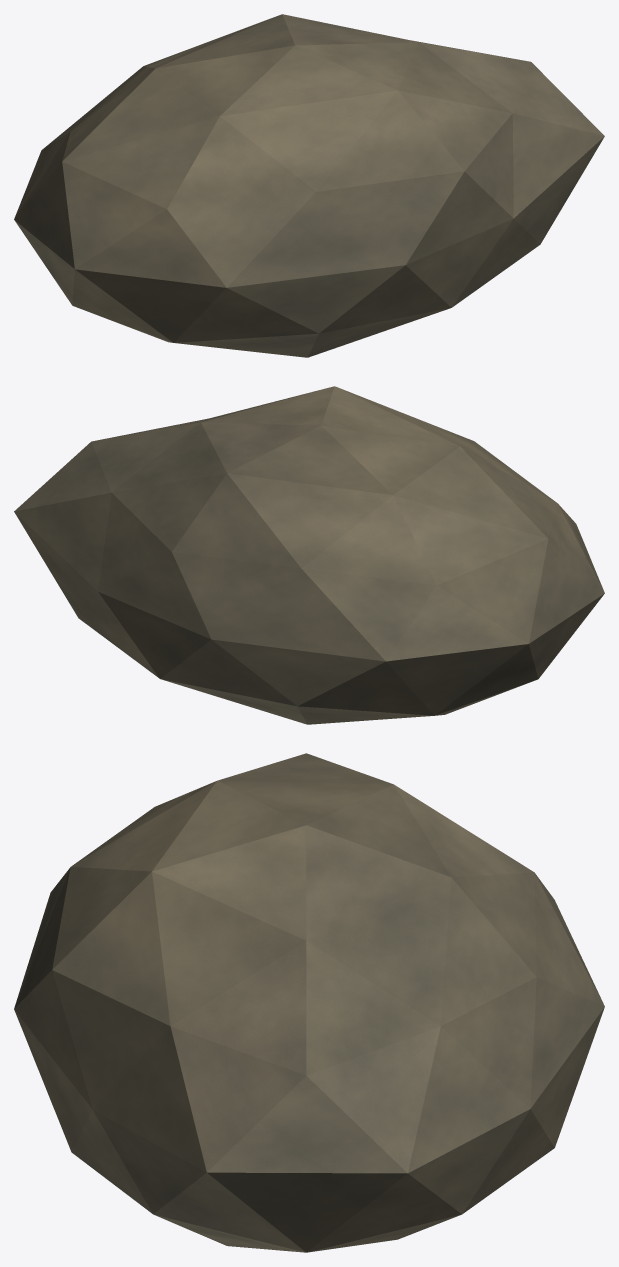
The model's file is prop_rock_small.glb.
The picture shows the model from 3 angles, top to bottom: view 1: azimuth 30°, elevation 25°; view 2: azimuth 150°, elevation 25°; view 3: azimuth 270°, elevation 25°; orthographic projection. The views are drawn at different scales.
Parts seen in each view (by area): view 1: rock__Fractured_small; view 2: rock__Fractured_small; view 3: rock__Fractured_small.
Boxes of the visible parts, box(x1,y1,x2,y2) form: rock__Fractured_small: box(14, 14, 604, 357); rock__Fractured_small: box(14, 386, 604, 724); rock__Fractured_small: box(14, 753, 604, 1252).
Bounding box in the file's own units: 0.9832 × 0.4963 × 0.7134.
1 material, 1 textured.
